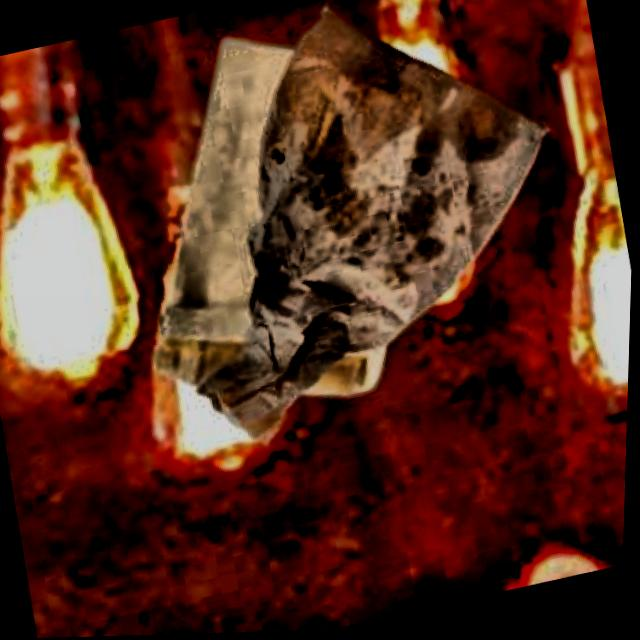Paper-bag: (136, 0, 586, 462), (103, 9, 477, 444)
